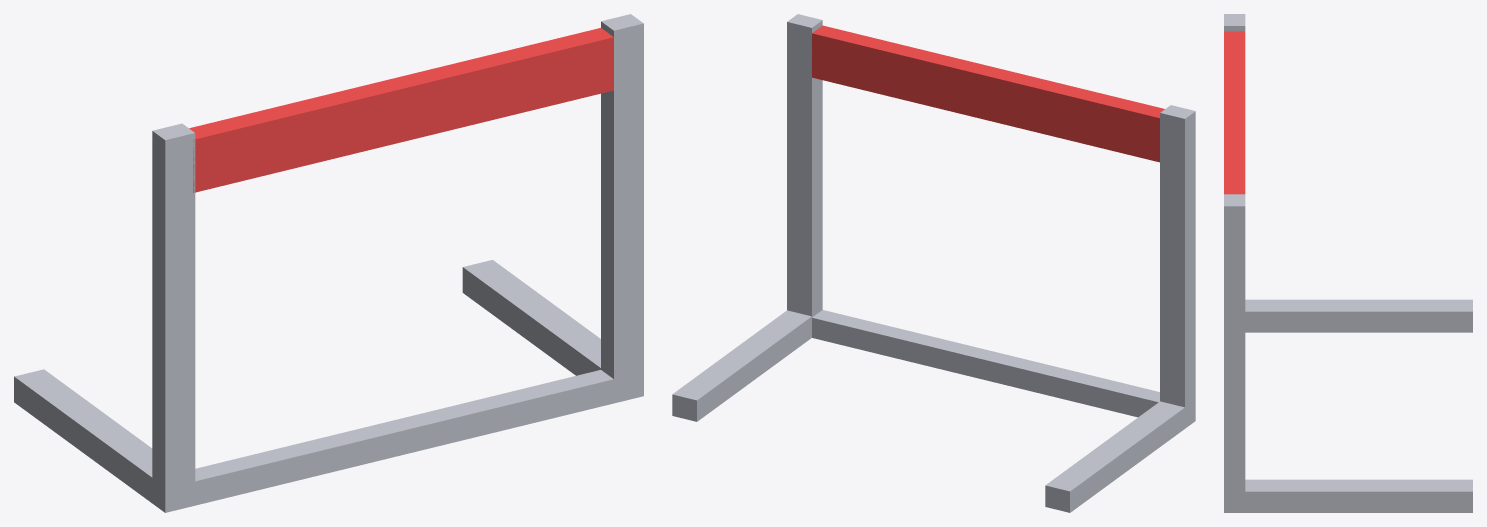
File: RunBarrier 2.fbx
3 views of the same model, side by side, from view 1: azimuth 30°, elevation 25°; view 2: azimuth 150°, elevation 25°; view 3: azimuth 270°, elevation 25° (orthographic). The views are drawn at different scales.
Parts seen in each view (by area): view 1: mergedBlocks; view 2: mergedBlocks; view 3: mergedBlocks.
Part boxes in pixels (x1,y1,x2,y2): mergedBlocks: (14, 14, 643, 512); mergedBlocks: (672, 14, 1195, 512); mergedBlocks: (1224, 14, 1472, 512).
Bounding box in the file's own units: 64 × 47.63 × 35.
